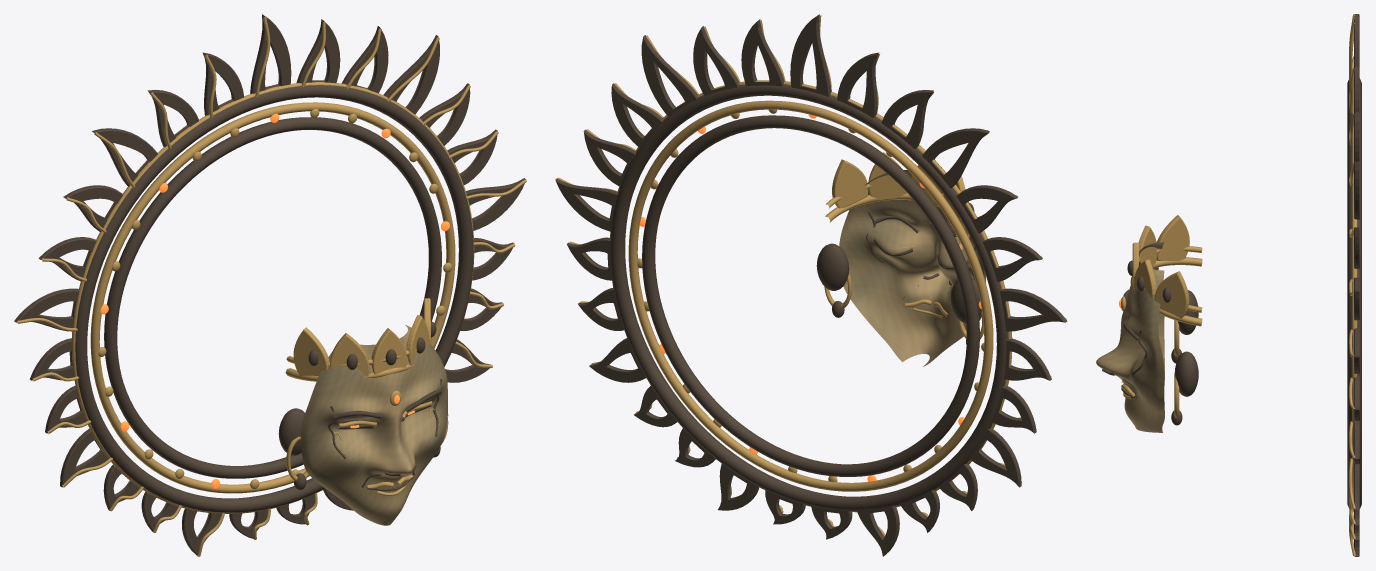
Rendered from CinderVotiveHead.glb.
3 renders of one model, left to right at view 1: azimuth 30°, elevation 25°; view 2: azimuth 150°, elevation 25°; view 3: azimuth 270°, elevation 25°, orthographic. The views are drawn at different scales.
Visible parts, largest first — view 1: Oxidized recess (×2), Worn gilding (×2), Smoke-dark cast bronze; view 2: Oxidized recess (×2), Worn gilding (×2), Smoke-dark cast bronze; view 3: Oxidized recess (×2), Worn gilding (×2), Smoke-dark cast bronze.
Part boxes in pixels (x1,y1,x2,y2): Oxidized recess (×2): (14,14,526,555); Worn gilding (×2): (17,16,526,556); Smoke-dark cast bronze: (301,325,447,525); Oxidized recess (×2): (555,14,1067,556); Worn gilding (×2): (558,15,1066,554); Smoke-dark cast bronze: (839,170,985,366); Oxidized recess (×2): (1102,14,1361,556); Worn gilding (×2): (1121,14,1357,555); Smoke-dark cast bronze: (1096,242,1164,432).
Size of the model in its own units: 1.98 by 1.95 by 0.9469.
